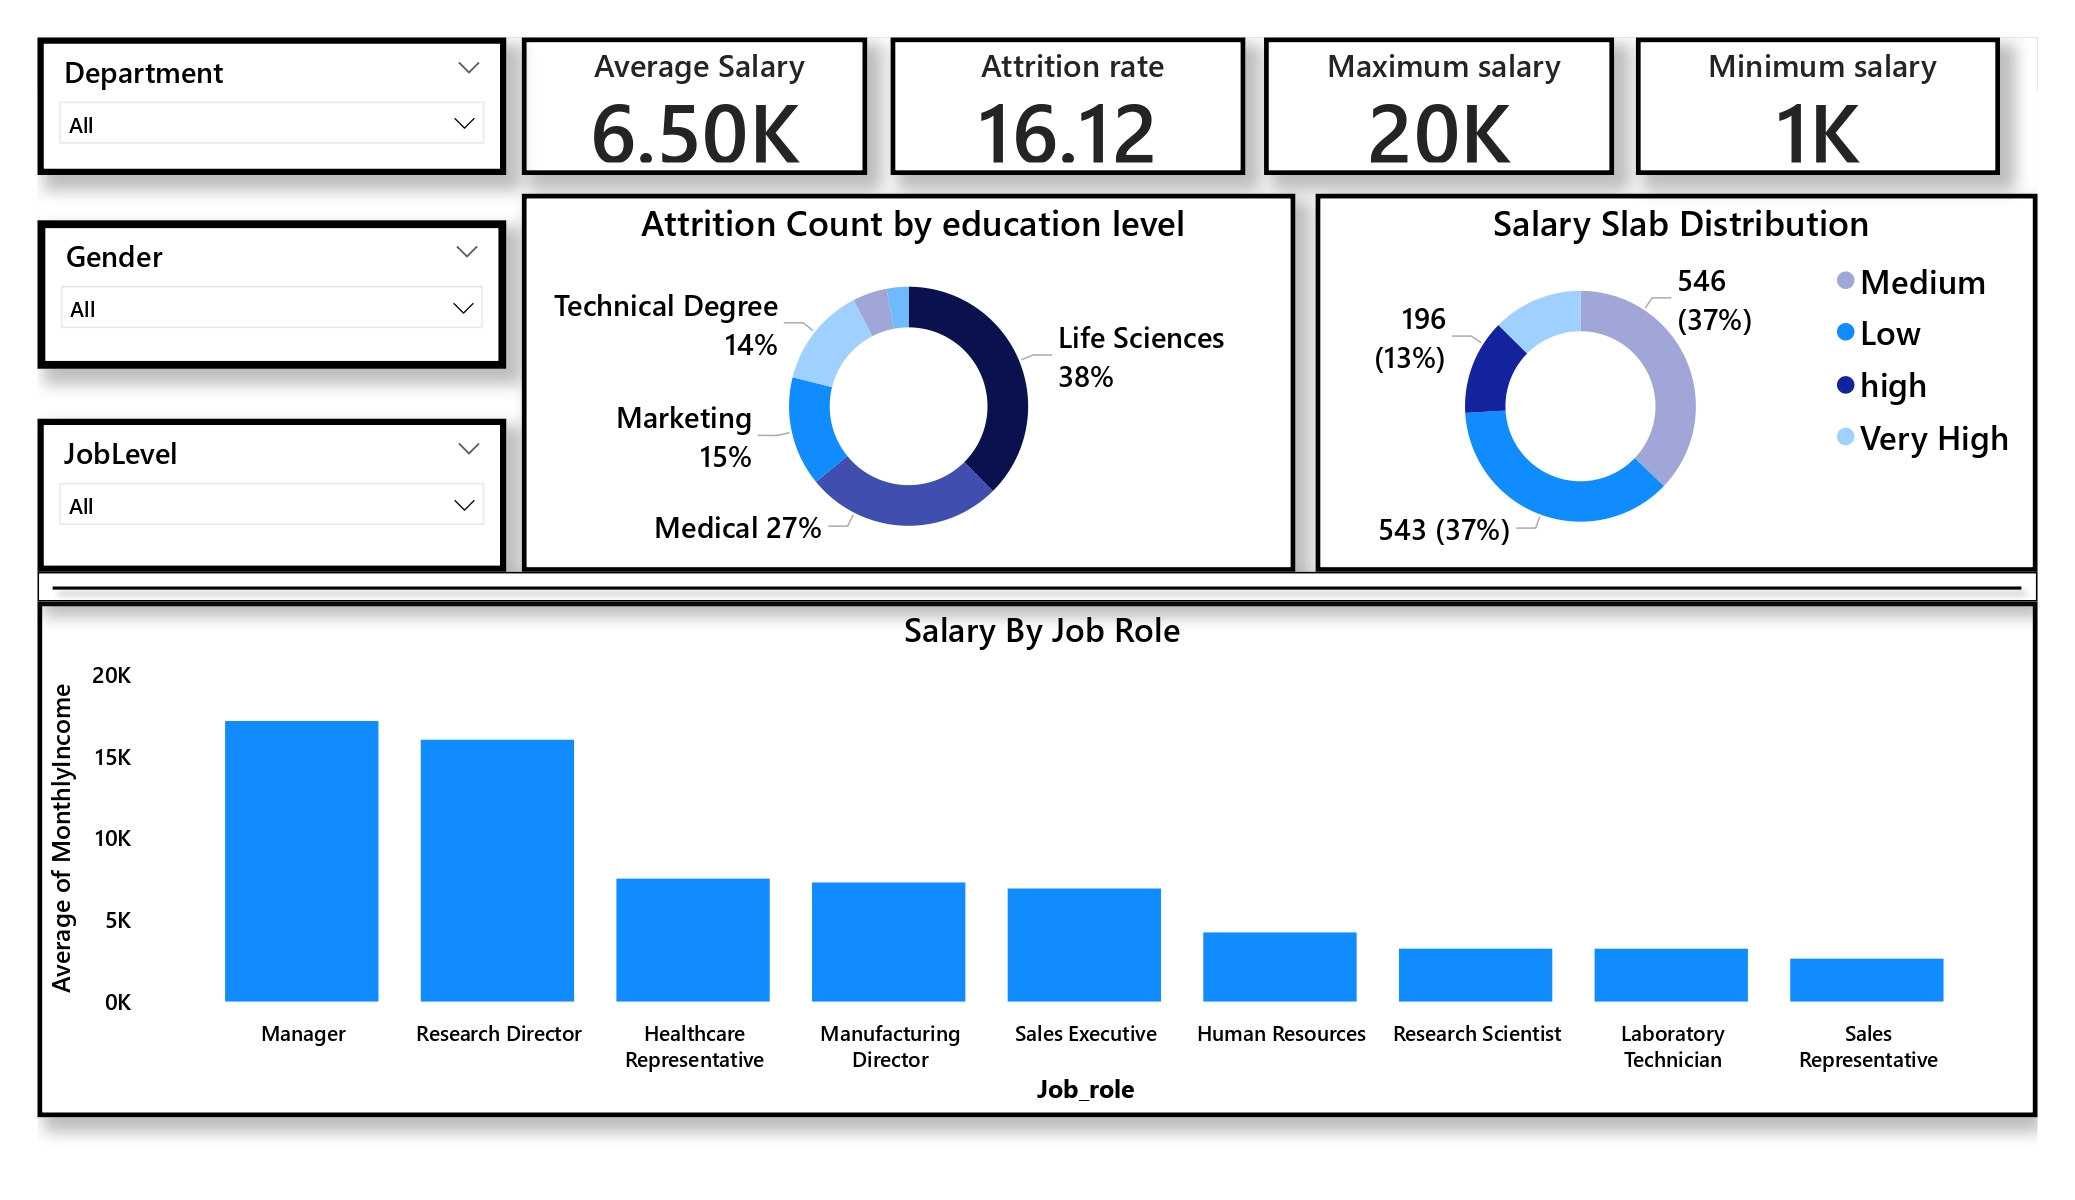

The page's visual inventory and layout, read from the dashboard file:
{"tool":"powerbi","page":{"name":"salary","canvas":[1280,720],"ordinal":1},"visuals":[{"type":"actionButton","box":[55.3,8.5,215.4,107.7],"z":0},{"type":"actionButton","box":[55.3,157.3,223.9,107.7],"z":1000},{"type":"actionButton","box":[45.4,306.1,233.9,107.7],"z":2000},{"type":"actionButton","box":[55.4,316.1,233.9,107.7],"z":3000},{"type":"actionButton","box":[65.4,326.1,233.9,107.7],"z":4000},{"type":"actionButton","box":[49.6,582.5,233.9,107.7],"z":5000},{"type":"card","title":"Average Salary","fields":{"Values":["Avg(ibm data.MonthlyIncome)"]},"box":[310.5,0,220.7,88.3],"z":6000},{"type":"slicer","fields":{"Values":["ibm data.Department"]},"box":[0,0,299.8,88.3],"z":7000},{"type":"slicer","fields":{"Values":["ibm data.Gender"]},"box":[0,117.2,299.8,94.4],"z":8000},{"type":"slicer","fields":{"Values":["ibm data.JobLevel"]},"box":[0,243.5,299.8,98.9],"z":9000},{"type":"card","title":"Attrition rate","fields":{"Values":["ibm data.Attrition_rate"]},"box":[546.4,0,226.8,88.3],"z":10000},{"type":"card","title":"Maximum salary","fields":{"Values":["Max(ibm data.MonthlyIncome)"]},"box":[785.4,0,223.7,88.3],"z":11000},{"type":"card","title":"Minimum Salary","fields":{"Values":["Min(ibm data.MonthlyIncome)"]},"box":[377.5,456.6,263.3,126.3],"z":12000},{"type":"donutChart","title":"Salary Slab Distribution","fields":{"Category":["ibm data.Salary_Slab"],"Y":["CountNonNull(ibm data.Salary_Slab)"]},"box":[818.4,100.1,461.6,242.1],"z":13000},{"type":"clusteredColumnChart","title":"Salary By Job Role","fields":{"Category":["ibm data.JobRole"],"Y":["Avg(ibm data.MonthlyIncome)"]},"box":[0,360.7,1280,330.3],"z":14000},{"type":"donutChart","title":"Attrition Count by education level","fields":{"Category":["ibm data.EducationField"],"Y":["ibm data.Attrition_count"]},"box":[309.9,100.1,495.5,242.1],"z":15000},{"type":"card","title":"Minimum salary","fields":{"Values":["Min(ibm data.MonthlyIncome)"]},"box":[1022.8,0,232.9,88.3],"z":16000},{"type":"shape","box":[0,342.4,1280,18.3],"z":17000}]}

Visuals, with their boxes in screenshot pixels (x1, y1, x2, y2):
actionButton: bbox=[139, 51, 471, 217]
actionButton: bbox=[139, 280, 485, 446]
actionButton: bbox=[124, 510, 485, 676]
actionButton: bbox=[139, 525, 500, 691]
actionButton: bbox=[155, 541, 516, 707]
actionButton: bbox=[131, 936, 491, 1102]
"Average Salary" card: bbox=[533, 38, 873, 174]
slicer - ibm data.Department: bbox=[54, 38, 516, 174]
slicer - ibm data.Gender: bbox=[54, 219, 516, 364]
slicer - ibm data.JobLevel: bbox=[54, 413, 516, 566]
"Attrition rate" card: bbox=[897, 38, 1246, 174]
"Maximum salary" card: bbox=[1265, 38, 1610, 174]
"Minimum Salary" card: bbox=[636, 742, 1042, 937]
"Salary Slab Distribution" donutChart: bbox=[1316, 192, 2028, 566]
"Salary By Job Role" clusteredColumnChart: bbox=[54, 594, 2028, 1103]
"Attrition Count by education level" donutChart: bbox=[532, 192, 1296, 566]
"Minimum salary" card: bbox=[1631, 38, 1990, 174]
shape: bbox=[54, 566, 2028, 594]
